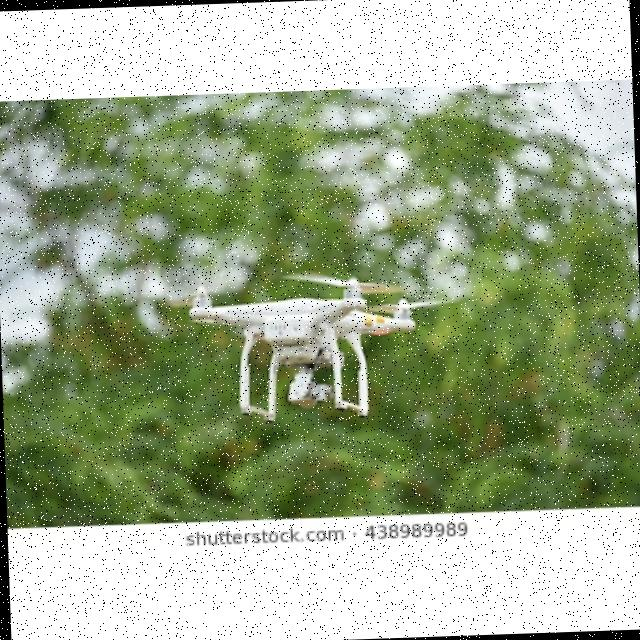Drones: (154, 262, 450, 426)
